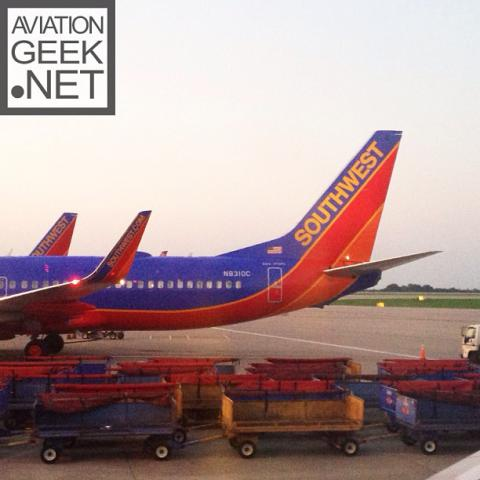truck: (216, 388, 365, 458), (33, 402, 172, 462), (394, 390, 479, 454), (459, 323, 479, 366)
